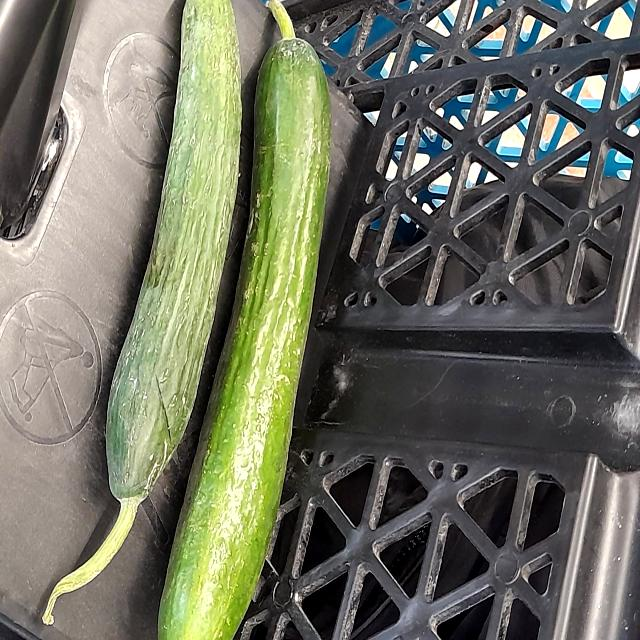cucumber: (158, 3, 336, 640), (93, 0, 255, 519)
